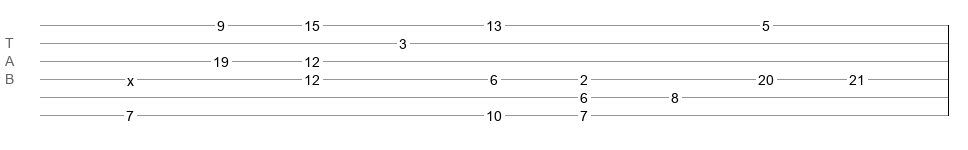10: (486, 108, 502, 118)
12: (304, 72, 320, 82), (304, 54, 320, 64)
13: (486, 18, 502, 28)
15: (304, 18, 320, 28)
19: (213, 54, 229, 64)
2: (580, 72, 588, 82)
20: (758, 72, 774, 82)
21: (849, 72, 865, 82)
3: (399, 36, 407, 46)
5: (762, 18, 770, 28)
6: (490, 72, 498, 82), (580, 90, 588, 100)
7: (126, 108, 134, 118), (580, 108, 588, 118)
8: (671, 90, 679, 100)
9: (217, 18, 225, 28)
x: (127, 73, 134, 81)
